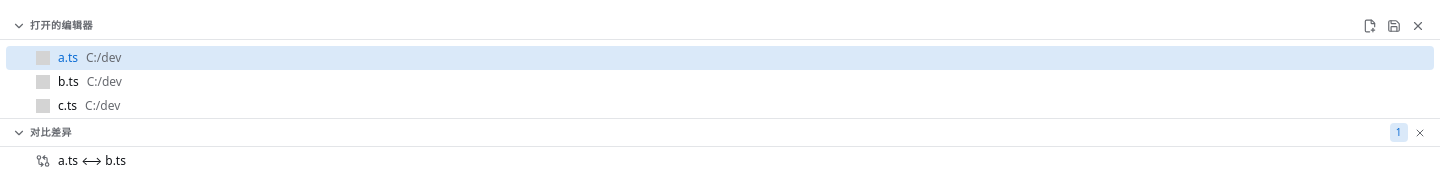
Scenario: EditorLeftSidebar 对比差异分组 › 「对比差异」标题可折叠/展开列表
Expected: the button with test id "sidebar-compare-c1" is shown, [6,149,1434,173]
Click the button with test id "sidebar-compare-header": (51, 132) [0,119,1439,147]
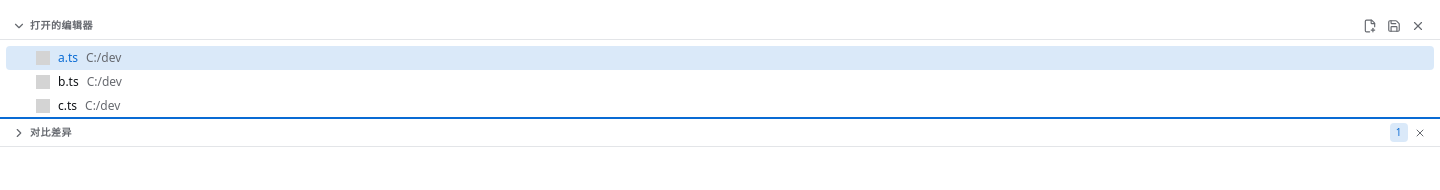
Now the button with test id "sidebar-compare-c1" is gone
